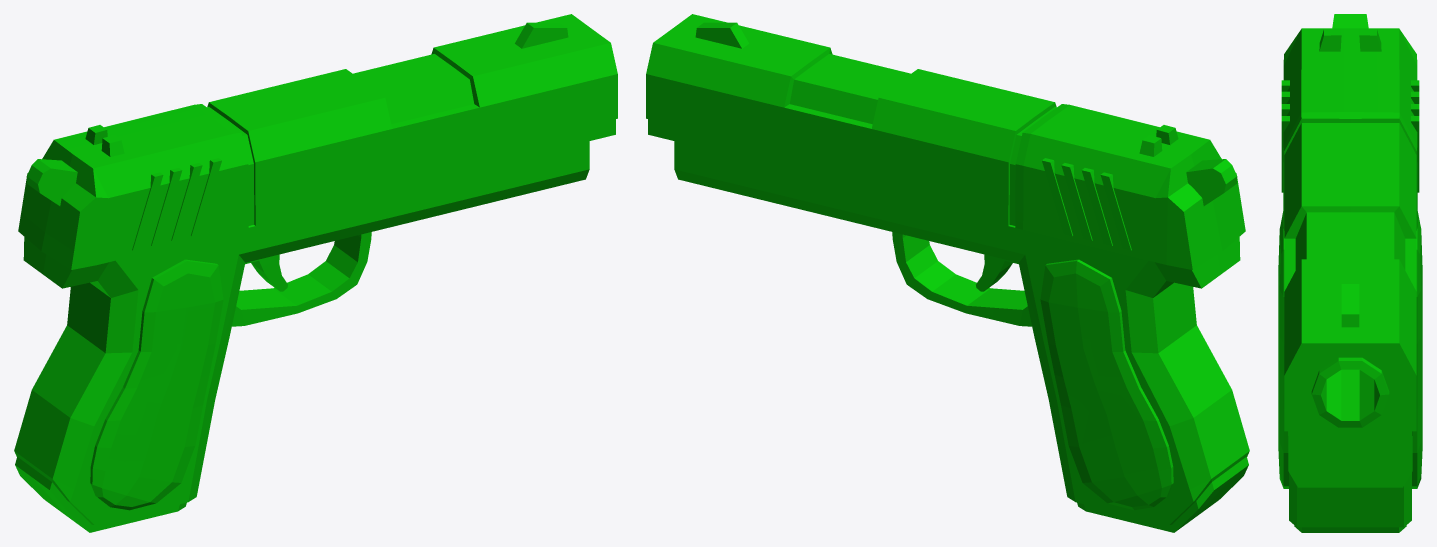
The model's file is pistol.obj.
The picture shows the model from 3 angles, left to right: view 1: azimuth 30°, elevation 25°; view 2: azimuth 150°, elevation 25°; view 3: azimuth 270°, elevation 25°; orthographic projection. The views are drawn at different scales.
Parts seen in each view (by area): view 1: Pistol_1; view 2: Pistol_1; view 3: Pistol_1.
Boxes of the visible parts, x1,y1,x2,y2 form: Pistol_1: (14, 14, 617, 532); Pistol_1: (646, 14, 1249, 532); Pistol_1: (1278, 14, 1422, 532).
Size of the model in its own units: 8.8 by 5.62 by 1.56.
